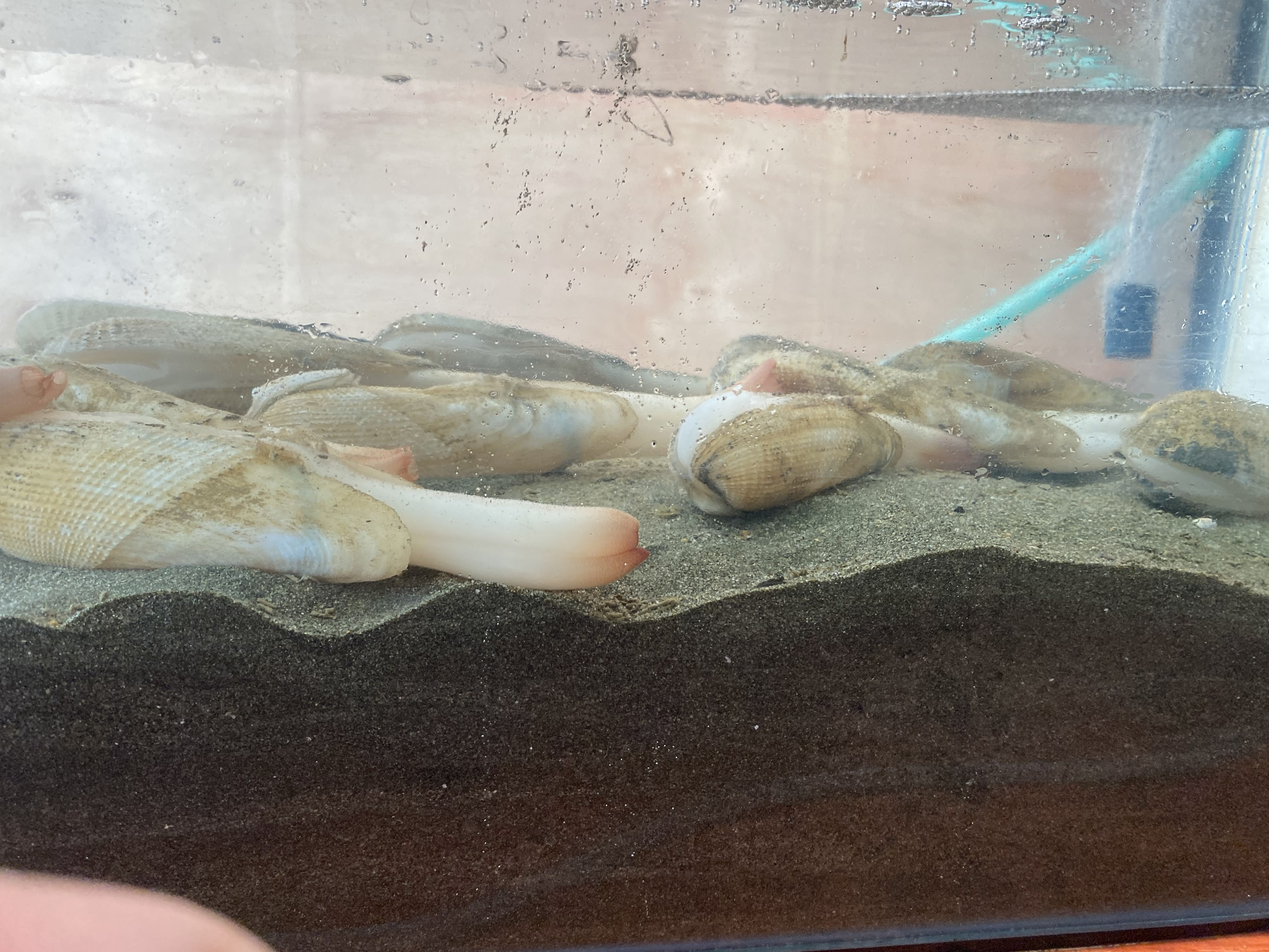Healthy: (308, 453, 645, 588), (673, 394, 981, 514), (540, 382, 705, 461)
